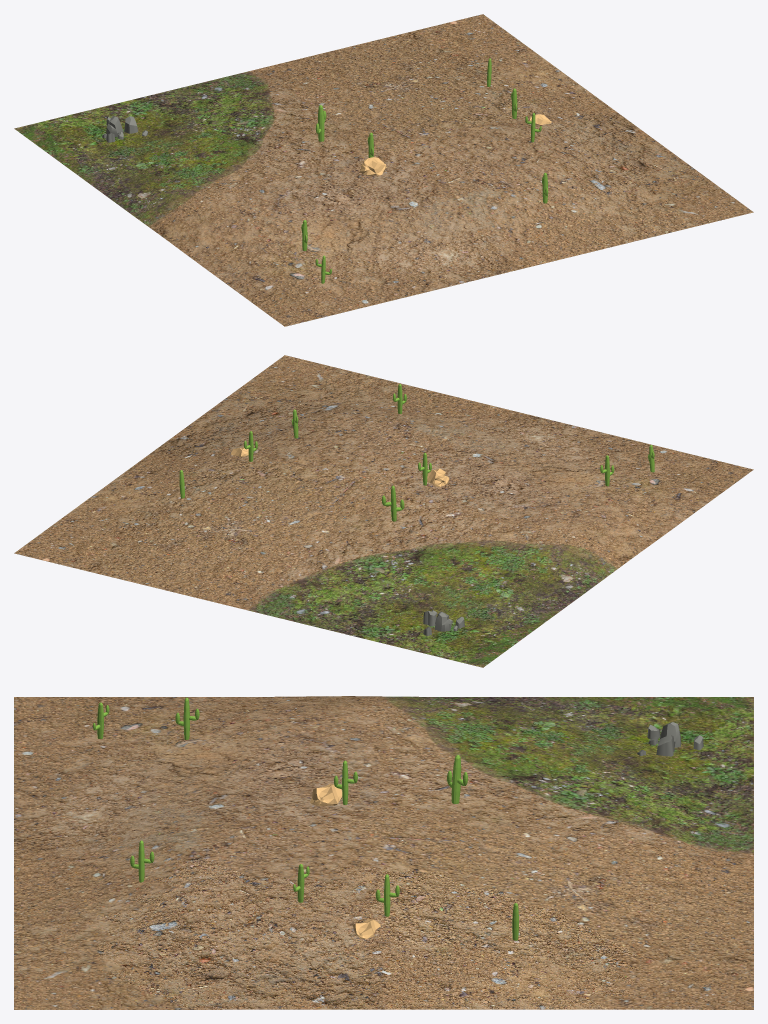
File: FSSS.fbx
3 views of the same model, one above another, from view 1: azimuth 30°, elevation 25°; view 2: azimuth 150°, elevation 25°; view 3: azimuth 270°, elevation 25° (orthographic). The views are drawn at different scales.
Visible parts, largest first — view 1: Plane, Resource_Rock_3; view 2: Plane, Resource_Rock_3; view 3: Plane, Resource_Rock_3, group1446250878.001, group1910377098.
Boxes of the visible parts, bbox=[...] form: Plane: bbox=[14, 14, 753, 326]; Resource_Rock_3: bbox=[102, 116, 147, 142]; Plane: bbox=[14, 355, 753, 667]; Resource_Rock_3: bbox=[423, 610, 464, 636]; Plane: bbox=[14, 696, 753, 1009]; Resource_Rock_3: bbox=[637, 722, 703, 756]; group1446250878.001: bbox=[310, 783, 342, 805]; group1910377098: bbox=[447, 755, 467, 803].
Bounding box in the file's own units: 500 × 57.97 × 500.
